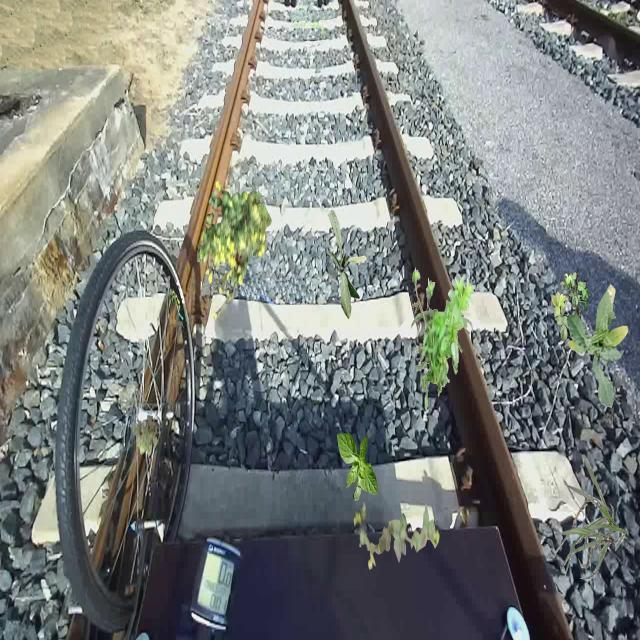Plant: (197, 180, 272, 320), (411, 267, 476, 410), (554, 454, 627, 578), (566, 284, 628, 408), (353, 501, 440, 570), (327, 210, 367, 320), (337, 431, 378, 502), (552, 268, 590, 342), (132, 415, 158, 458), (445, 316, 462, 348)
